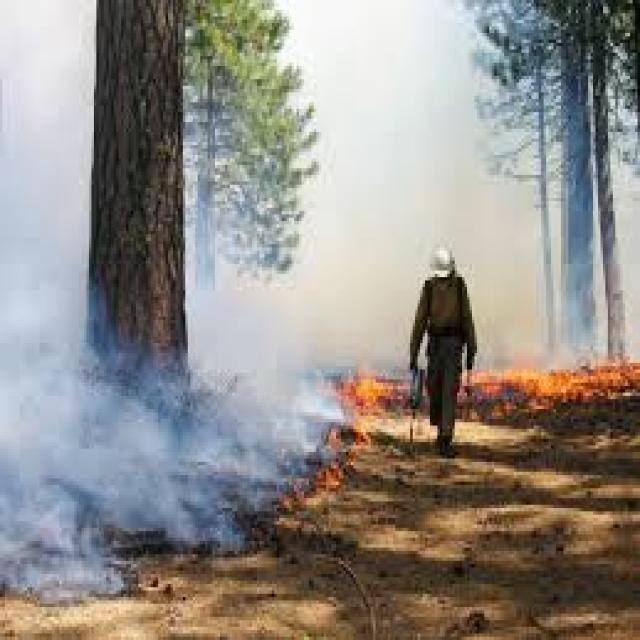Fire: (491, 349, 640, 430)
Smoke: (0, 358, 331, 541), (0, 1, 89, 608), (0, 383, 282, 544), (314, 0, 393, 458), (483, 210, 561, 410)
